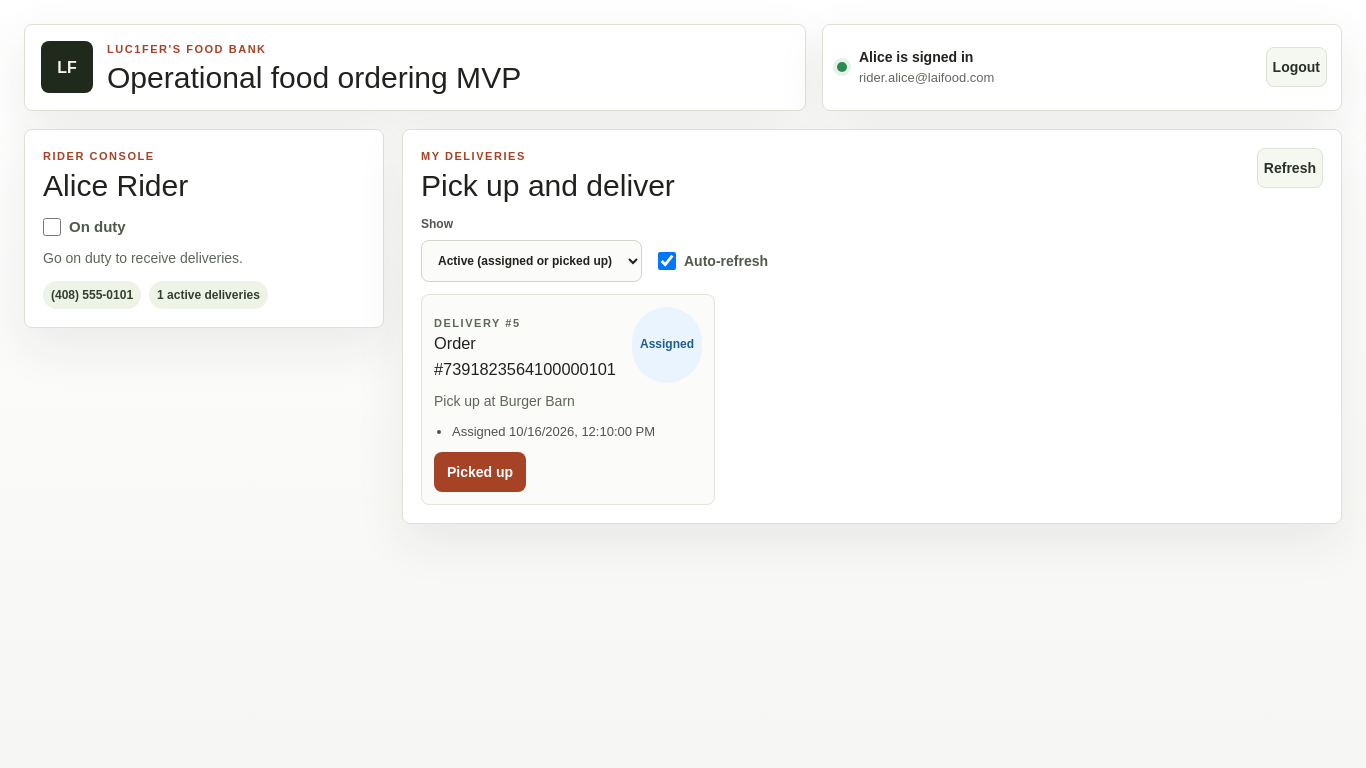
Test: rider console › keeps the switch as it was when the availability change fails
Click the switch labelled "On duty" at (52, 226), box [43, 218, 61, 236]
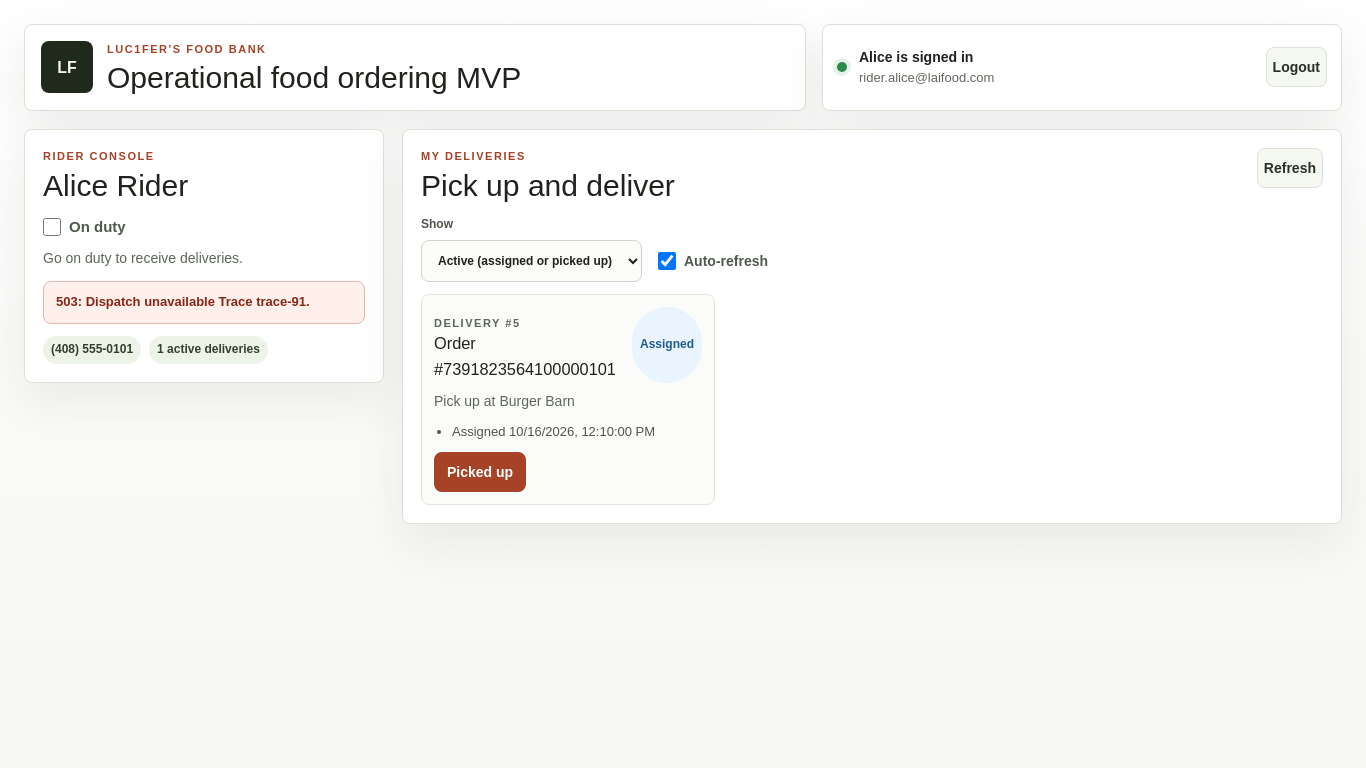
Now the message reads "503: Dispatch unavailable Trace trace-91.", box [56, 294, 310, 309]
